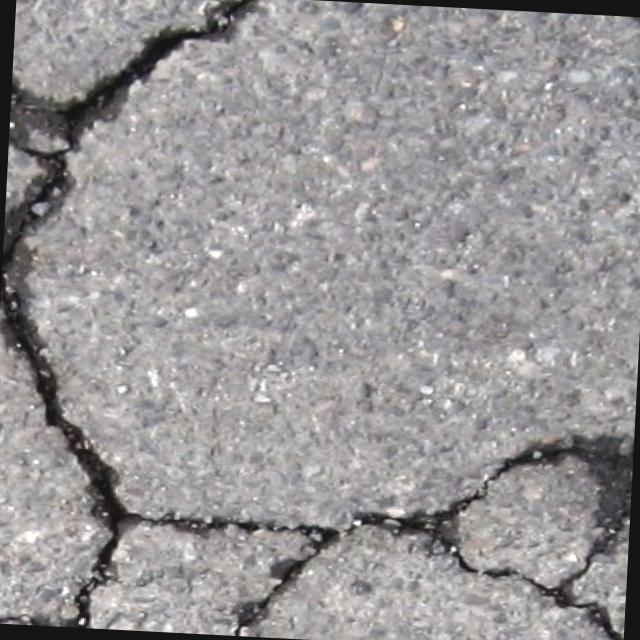crack: (0, 187, 160, 629), (6, 0, 263, 198), (141, 496, 455, 558), (449, 543, 626, 640), (448, 428, 578, 518), (232, 548, 320, 638), (571, 434, 631, 552)
